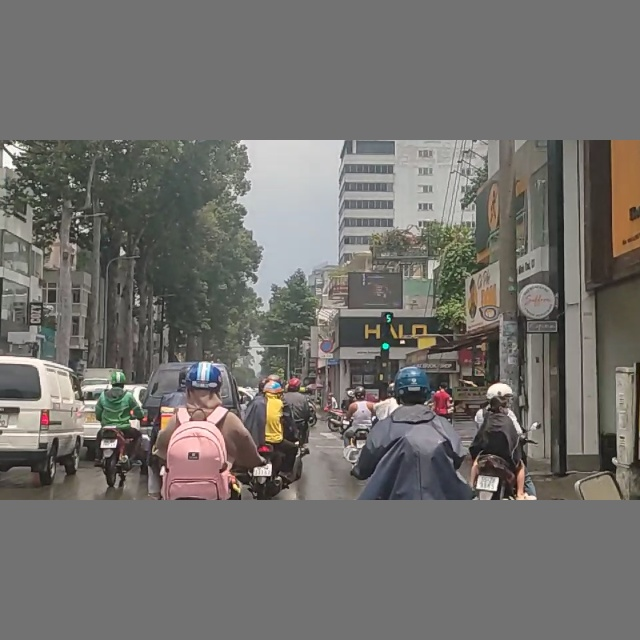P.131a: (319, 339, 335, 353)
